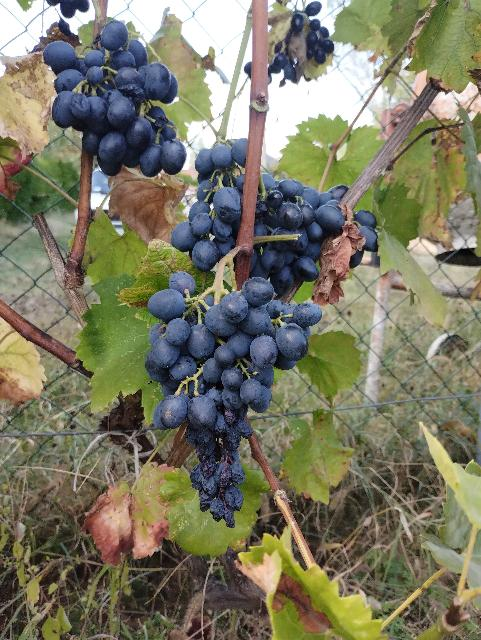grapes: (145, 249, 321, 528), (44, 20, 188, 176), (241, 176, 348, 294), (170, 141, 245, 271)
